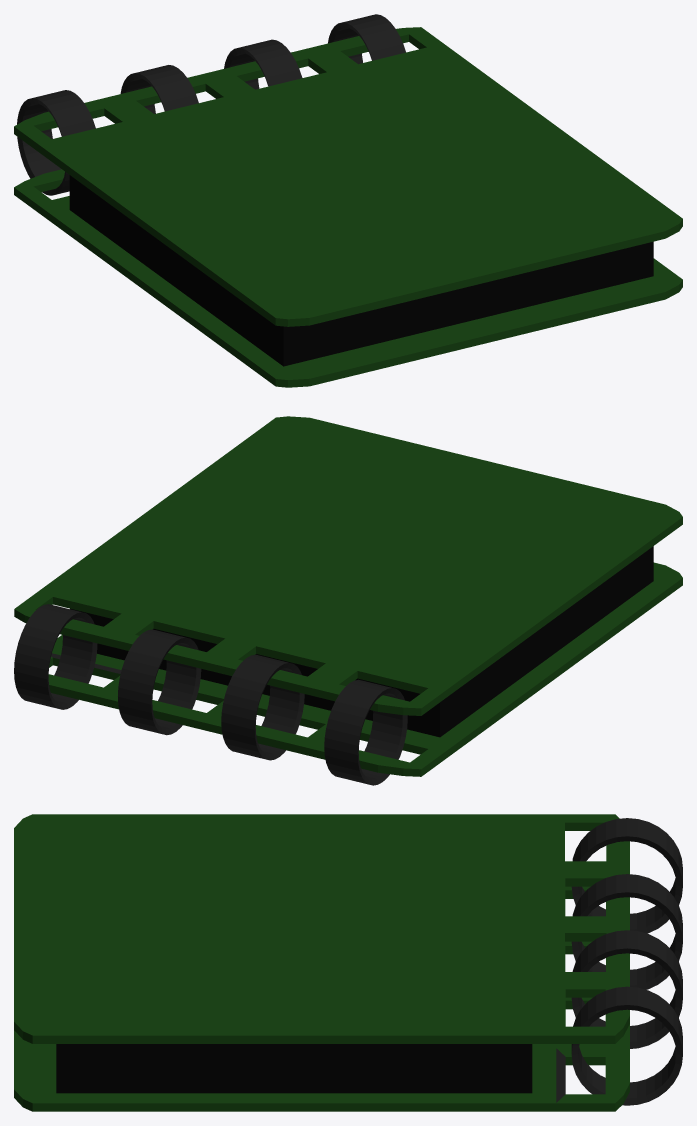
Rendered from notebook1.obj.
3 renders of one model, top to bottom at view 1: azimuth 30°, elevation 25°; view 2: azimuth 150°, elevation 25°; view 3: azimuth 270°, elevation 25°, orthographic. The views are drawn at different scales.
Parts seen in each view (by area): view 1: notebook:Mesh; view 2: notebook:Mesh; view 3: notebook:Mesh.
Part boxes in pixels (box(x1,y1,x2,y2)): notebook:Mesh: box(14, 14, 682, 387); notebook:Mesh: box(14, 416, 682, 785); notebook:Mesh: box(14, 814, 682, 1111).
Bounding box in the file's own units: 4.63 × 0.9839 × 5.91.
